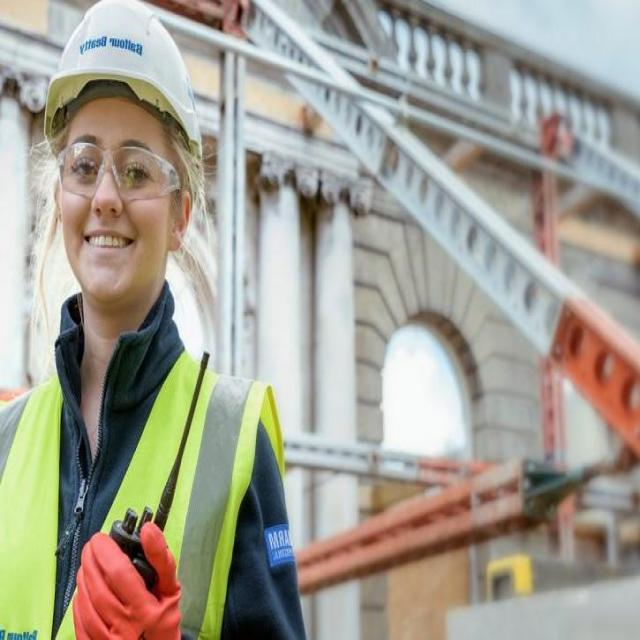Reflective-Jacket: (0, 325, 275, 639)
Safety-Helmet: (41, 0, 208, 157)
